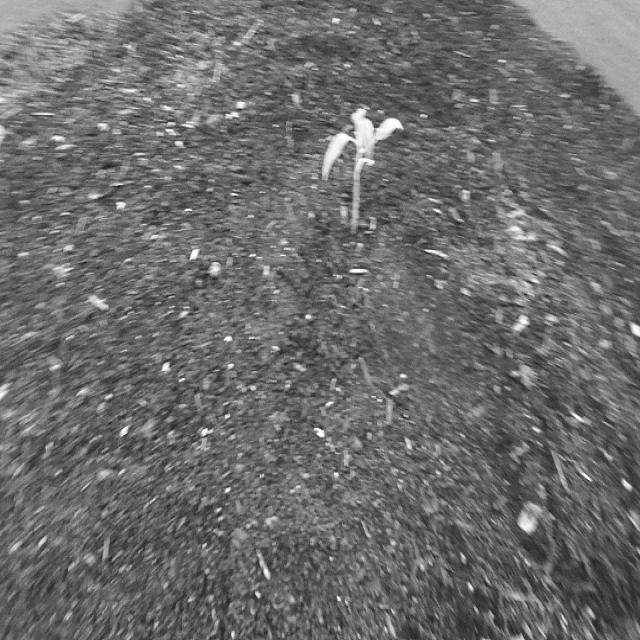Healthy: (317, 98, 407, 241)
